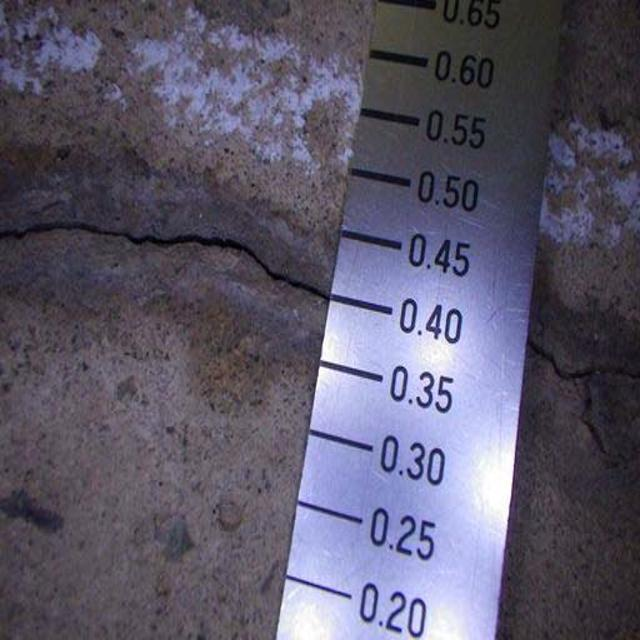crack: (6, 193, 334, 321), (516, 329, 633, 460)
